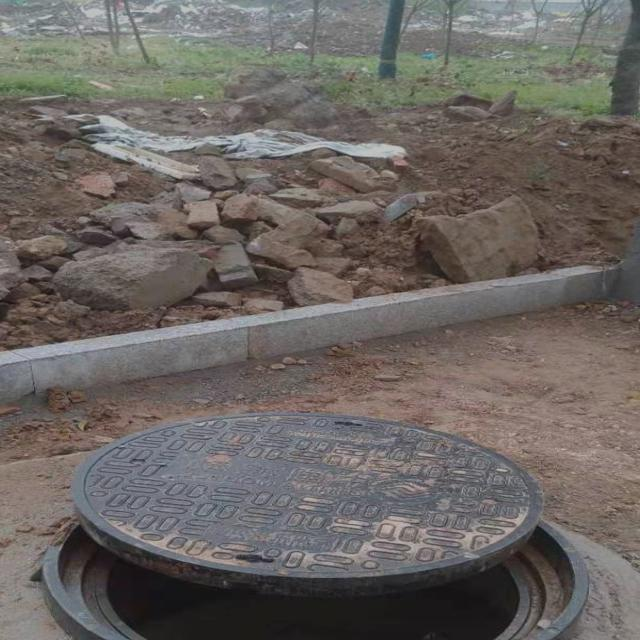uncovered: (39, 412, 590, 640)
